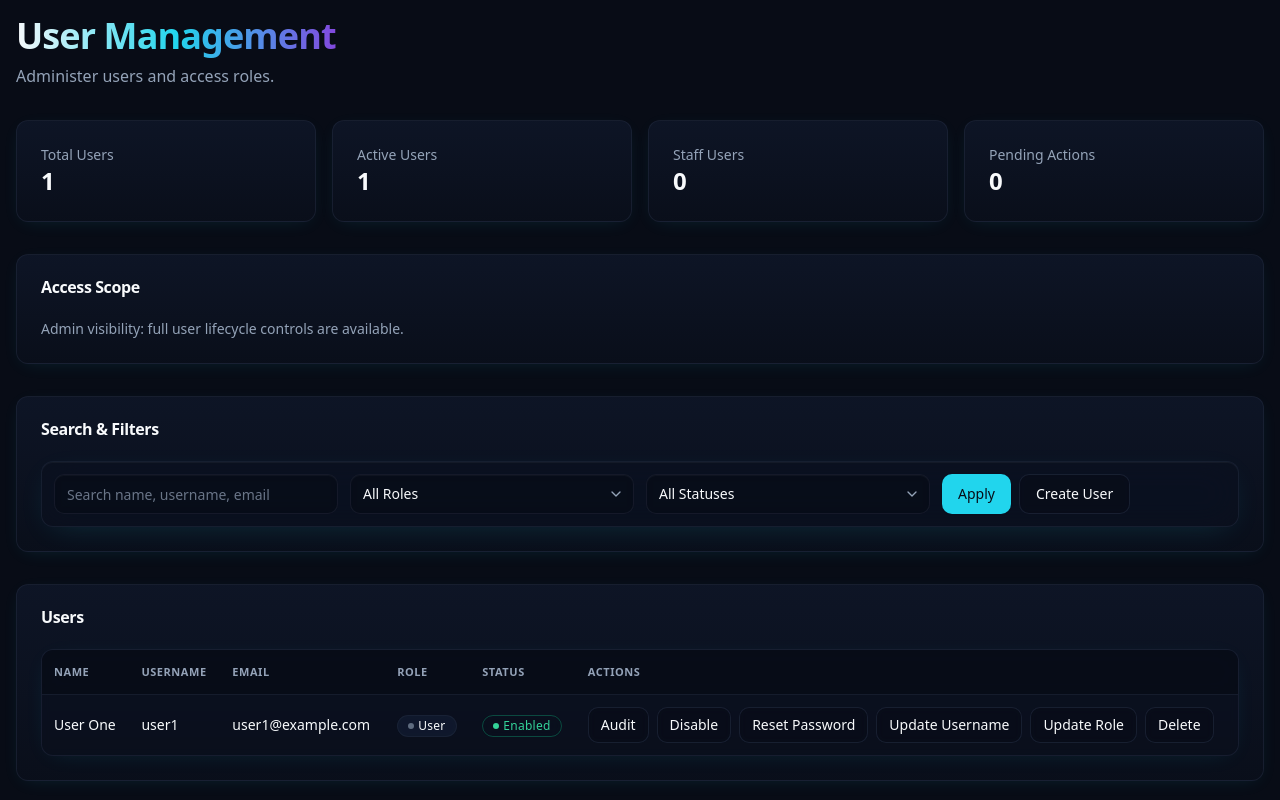
Scenario: UserManagementView RBAC UI › renders audit trail entries when available
Click the button "Audit".
click(618, 725)  # box top-left (588, 707), bottom-right (649, 743)
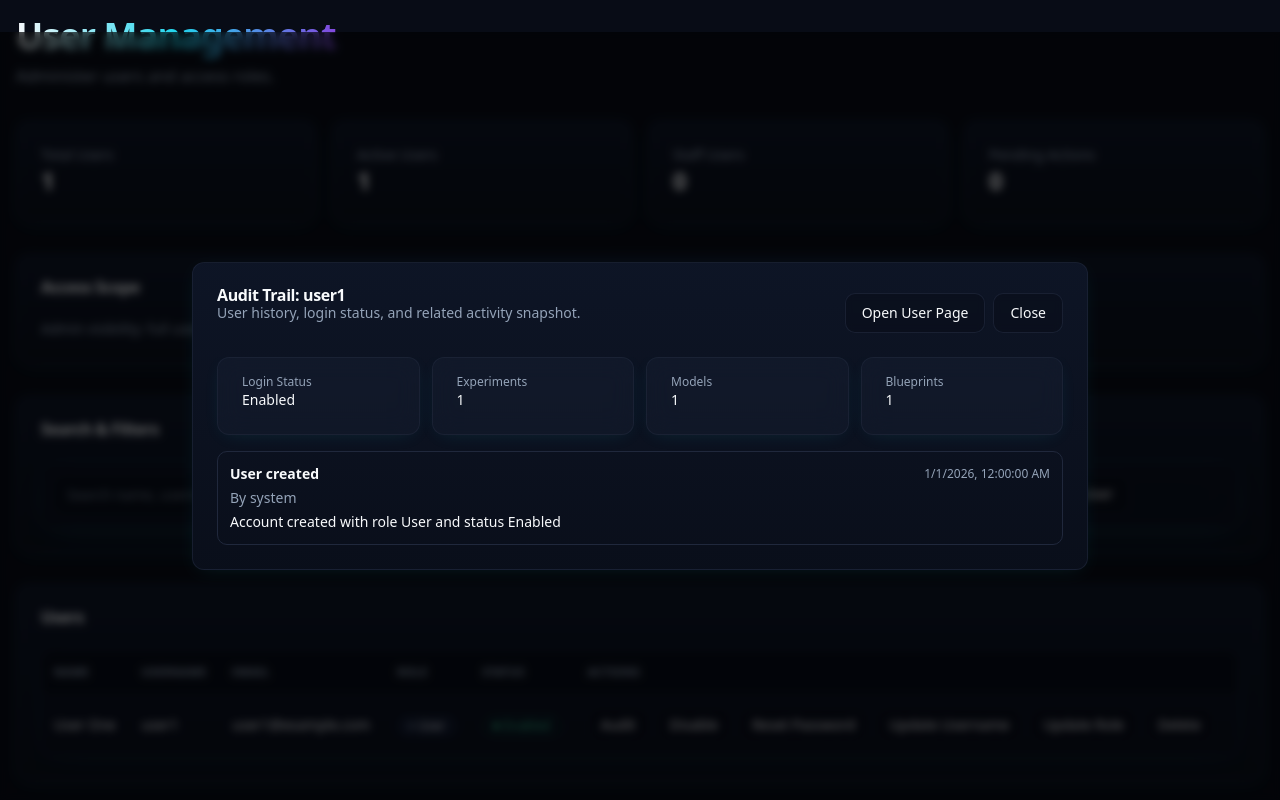
Result: the text "User created" is shown at top-left (230, 464), bottom-right (319, 484)
Result: the text "By system" is shown at top-left (230, 488), bottom-right (296, 507)
